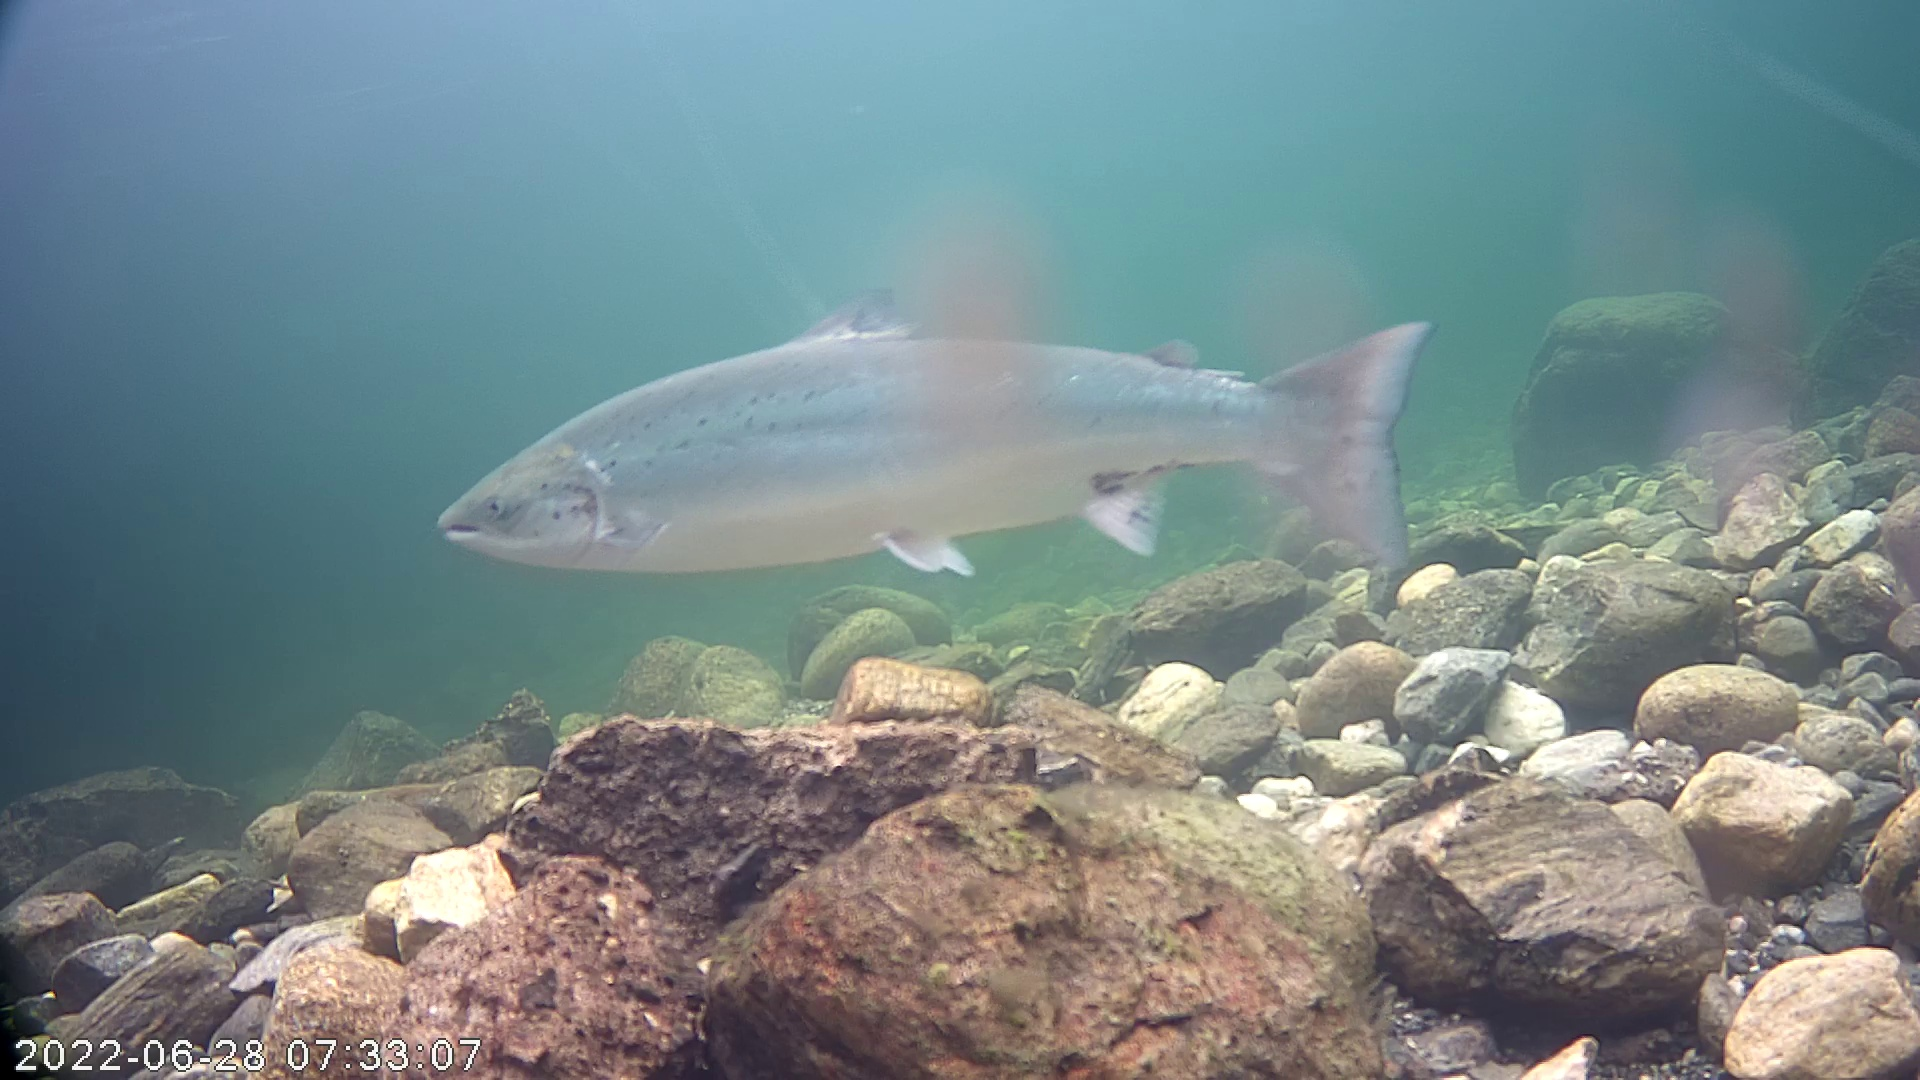salmon: (423, 203, 1455, 611)
